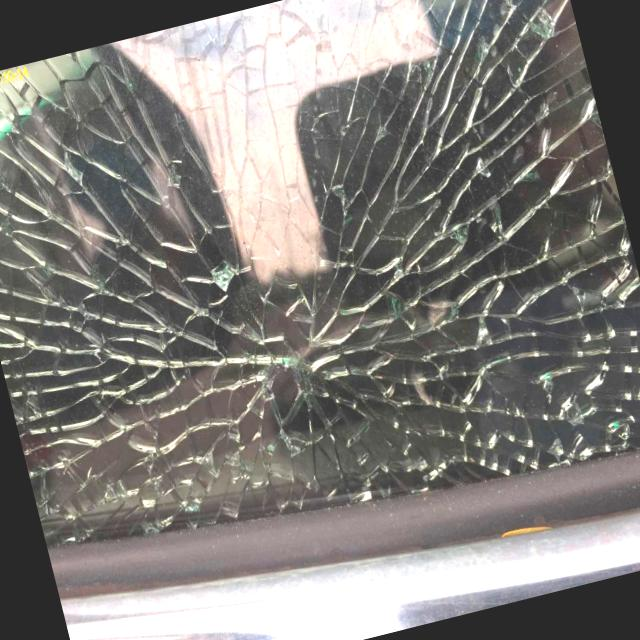Fissure: (0, 149, 267, 434), (20, 374, 304, 559)
